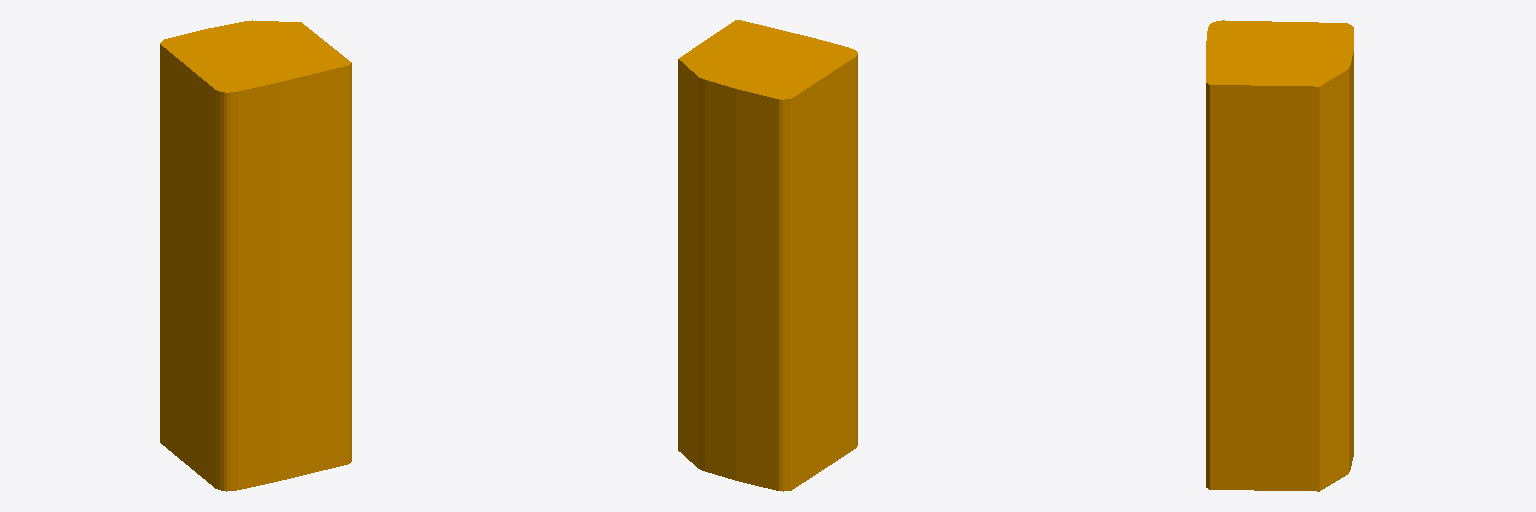
robot.urdf — drink_yykx_optimized:
<?xml version="1.0"?>
<robot name="drink_yykx_optimized">
  <link name="base_link">
    <inertial>
      <origin xyz="0 0 0" rpy="0 0 0"/>
      <mass value="0.550000"/>
      <inertia ixx="0.00203470" ixy="0" ixz="0" iyy="0.00205792" iyz="0" izz="0.00042595"/>
    </inertial>
    <visual>
      <origin xyz="0 0 0" rpy="0 0 0"/>
      <geometry><mesh filename="drink_yykx_visual.obj" scale="1 1 1"/></geometry>
    </visual>
    <collision>
      <origin xyz="0 0 0" rpy="0 0 0"/>
      <geometry><mesh filename="drink_yykx_collision.obj" scale="1 1 1"/></geometry>
    </collision>
    <contact>
      <lateral_friction value="1.0"/>
      <rolling_friction value="0.01"/>
      <restitution value="0.1"/>
    </contact>
  </link>
</robot>

--- Facts derived from the render (not from the file) ---
The picture shows the robot from 3 angles, left to right: view 1: azimuth 30°, elevation 25°; view 2: azimuth 150°, elevation 25°; view 3: azimuth 270°, elevation 25°; orthographic projection.
Robot: drink_yykx_optimized — 1 links, 0 joints (none); root link base_link; default pose: every joint at zero.
Visible links, largest first — view 1: base_link; view 2: base_link; view 3: base_link.
Link boxes in pixels (x1,y1,x2,y2): base_link: (160,20,351,491); base_link: (678,20,857,491); base_link: (1206,20,1353,491).
Bounding box of the posed robot: 0.07 × 0.0663 × 0.2 m (x, y, z).
1 mesh visuals loaded from 1 distinct referenced files (1 OBJ).
